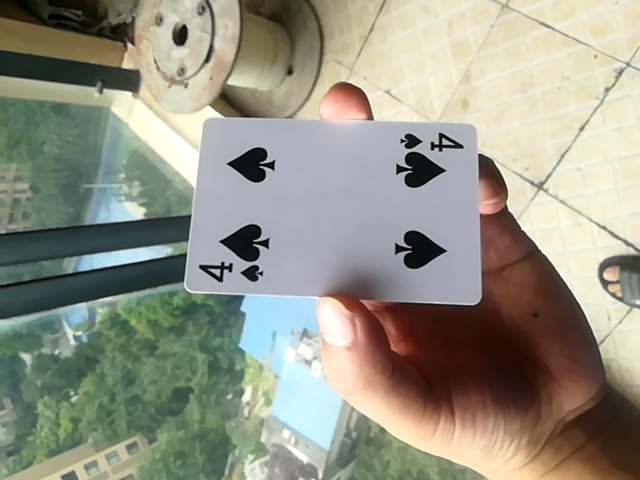ht 4: (170, 110, 489, 309)
